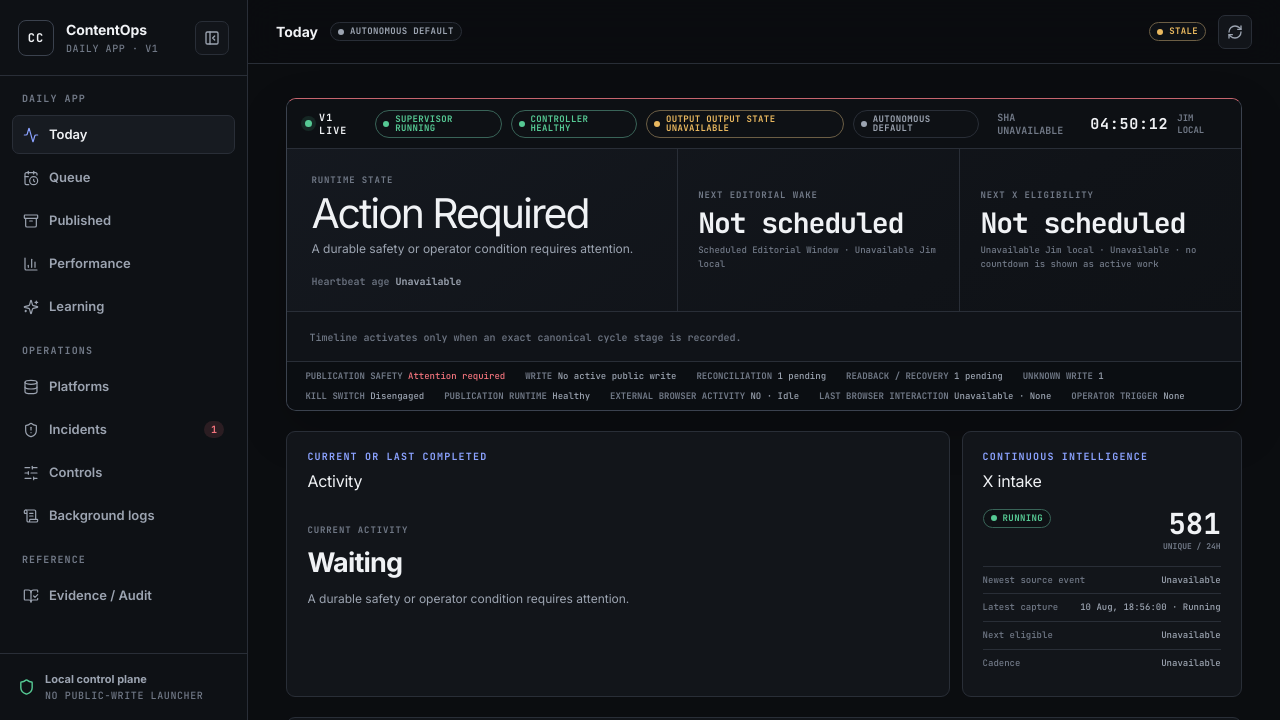
Test: Final Daily App production console › renders every UTC-semantic queue timestamp explicitly in UTC
The image size is (1280, 720).
Click the button "Queue" at (124,178), box top-left (12, 158), bottom-right (235, 197)
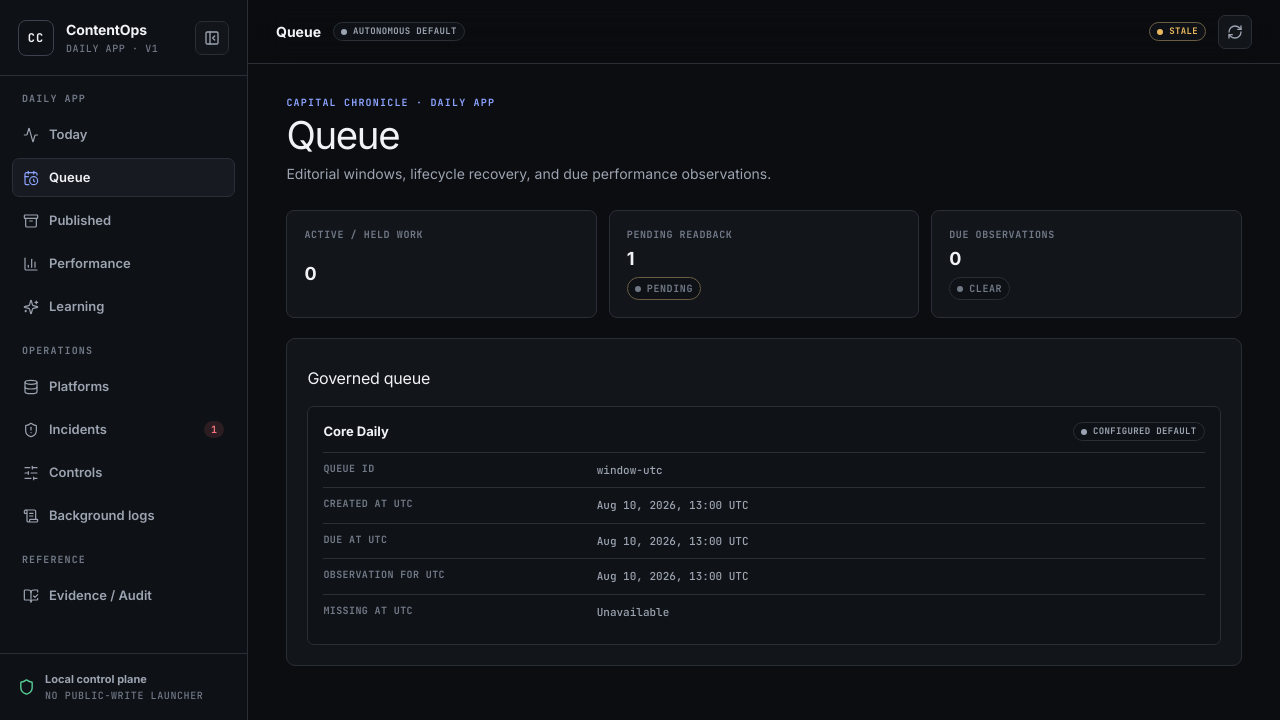
Expected: the text "Unavailable" is shown, top-left (597, 605), bottom-right (669, 619)
Expected: the text "Aug 10, 2026, 13:00 UTC" is shown 3 times, top-left (597, 498), bottom-right (748, 512); top-left (597, 534), bottom-right (748, 548); top-left (597, 569), bottom-right (748, 583)
Expected: the text "Configured Default" is shown, top-left (1073, 422), bottom-right (1205, 441)
